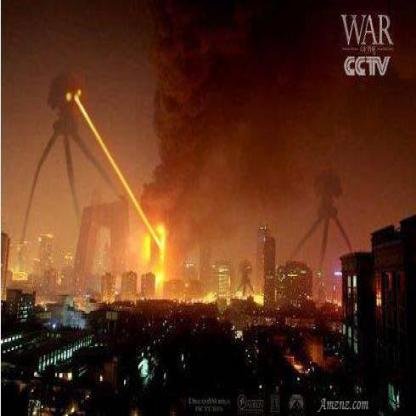fire: (64, 84, 175, 294), (140, 216, 174, 294), (193, 278, 266, 309)
